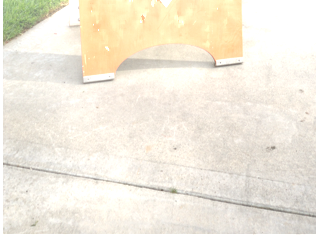Edge: (3, 4, 64, 44)
Obstacle: (78, 0, 245, 84)
